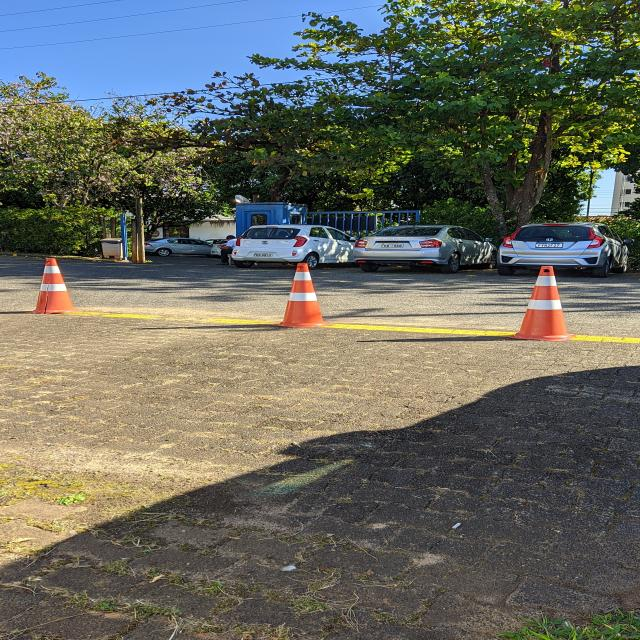cone: (506, 263, 580, 343), (269, 259, 337, 330), (24, 256, 83, 316)
